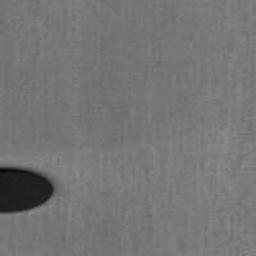Punching: (0, 167, 54, 213)
